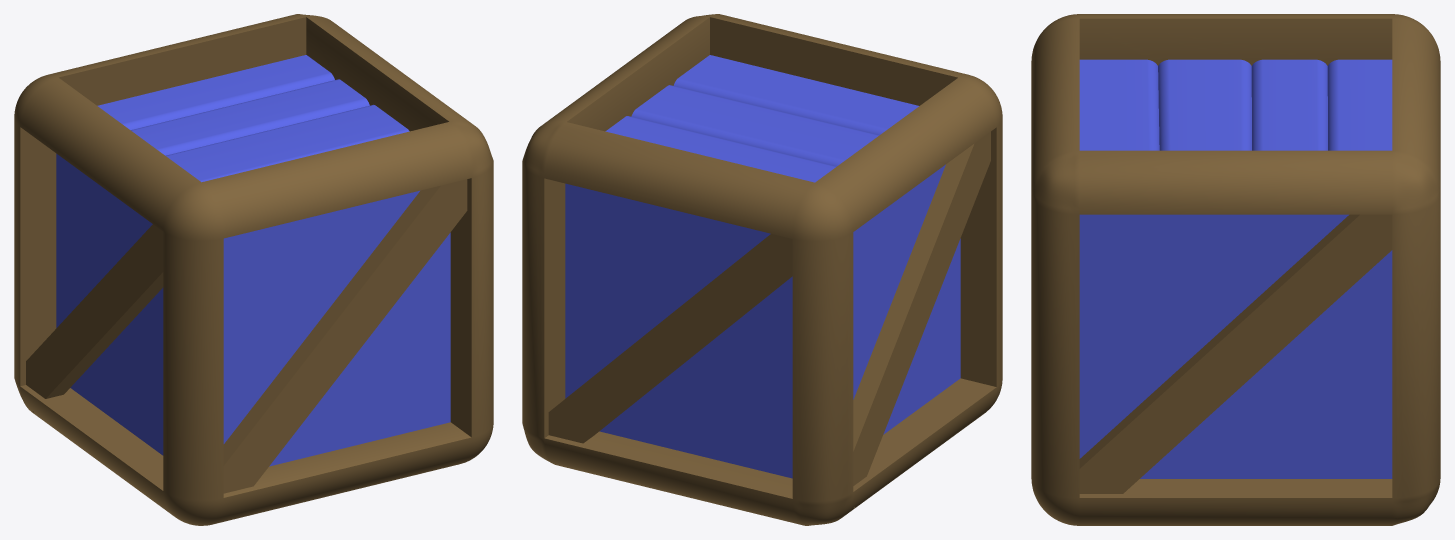
The model's file is crate.glb.
3 views of the same model, side by side, from view 1: azimuth 30°, elevation 25°; view 2: azimuth 150°, elevation 25°; view 3: azimuth 270°, elevation 25° (orthographic). The views are drawn at different scales.
Parts seen in each view (by area): view 1: Crate; view 2: Crate; view 3: Crate.
Part boxes in pixels (left/top/right/bottom): Crate: left=14, top=14, right=493, bottom=525; Crate: left=522, top=14, right=1002, bottom=525; Crate: left=1031, top=14, right=1440, bottom=525.
Size of the model in its own units: 0.6468 by 0.6468 by 0.6468.
